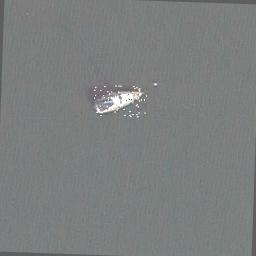boat: (92, 84, 148, 118)
